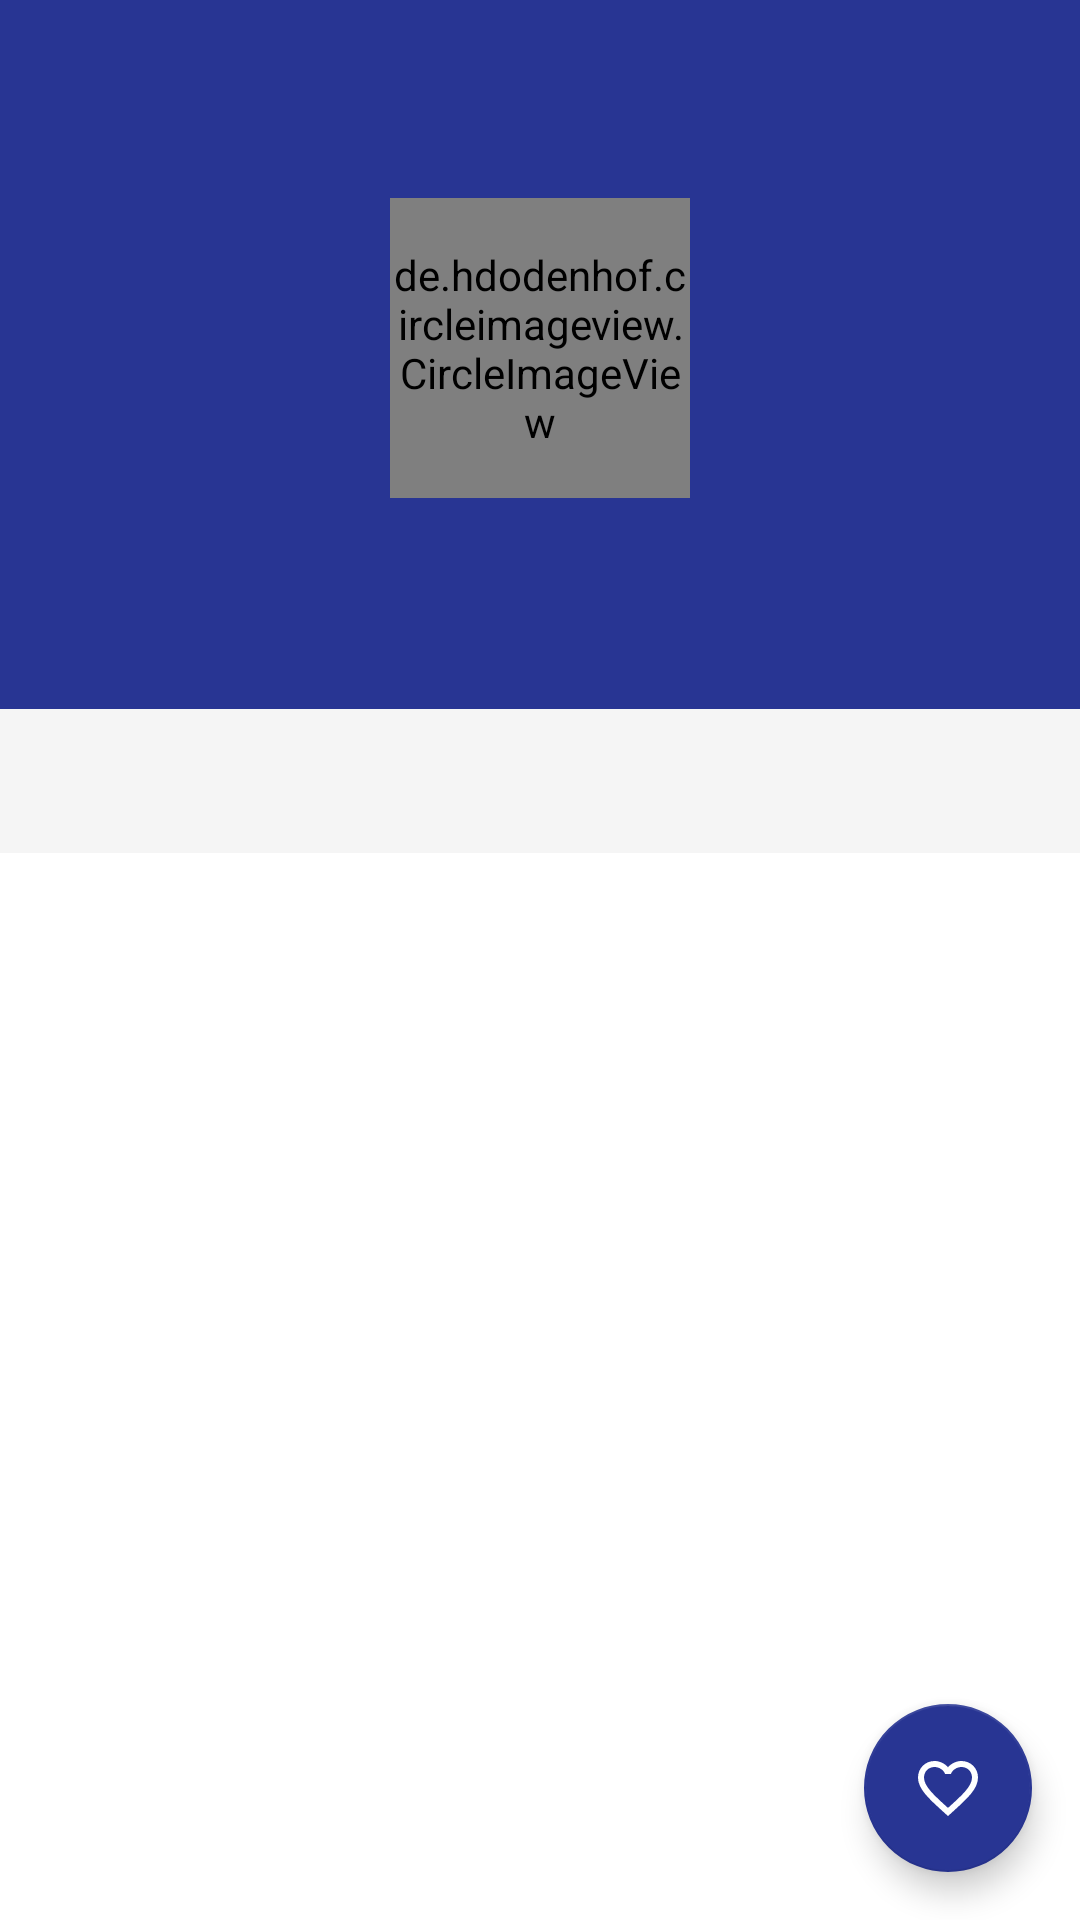

Icon bounding boxes for this 1080*1920 phone screenshot, format box(x1, y1, x2, y2):
favorite border: box(864, 1704, 1032, 1872)
